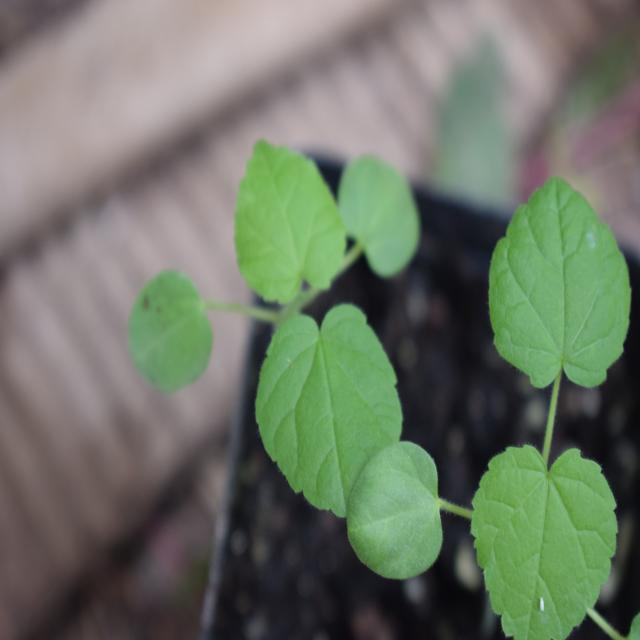abutilon theophrasti: (133, 125, 455, 550)
